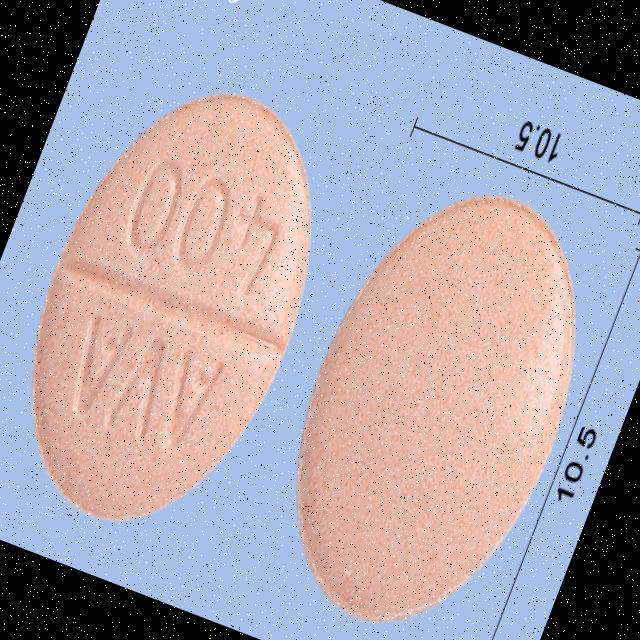Aclova: (239, 157, 631, 640), (0, 50, 368, 562)
